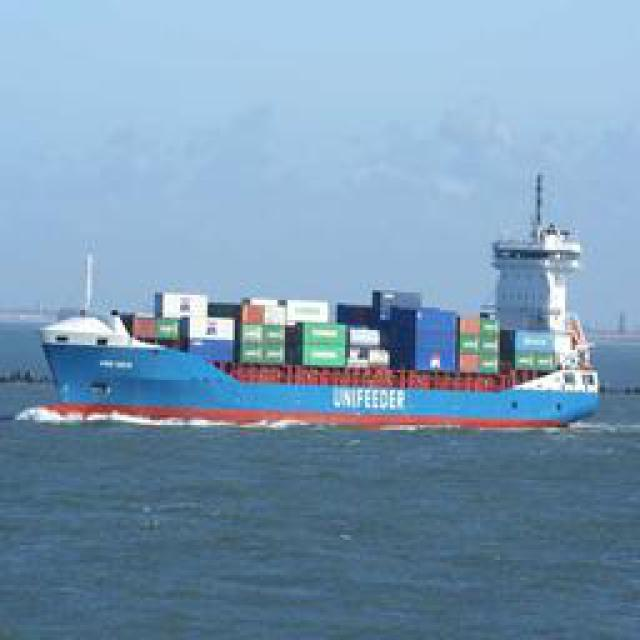Ship: (47, 226, 595, 436)
